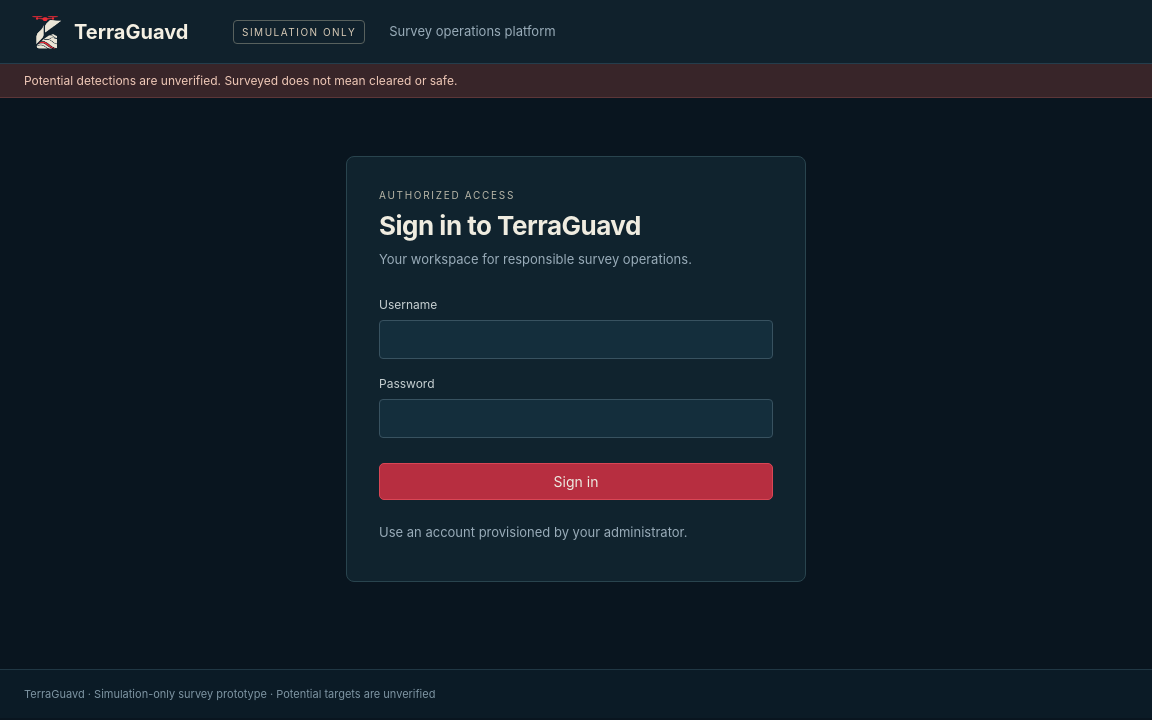
Test case: role workspaces › navigates field alerts and keeps stop requests disabled
The image size is (1152, 720).
Submit the form "Sign in", box [379, 297, 773, 516]
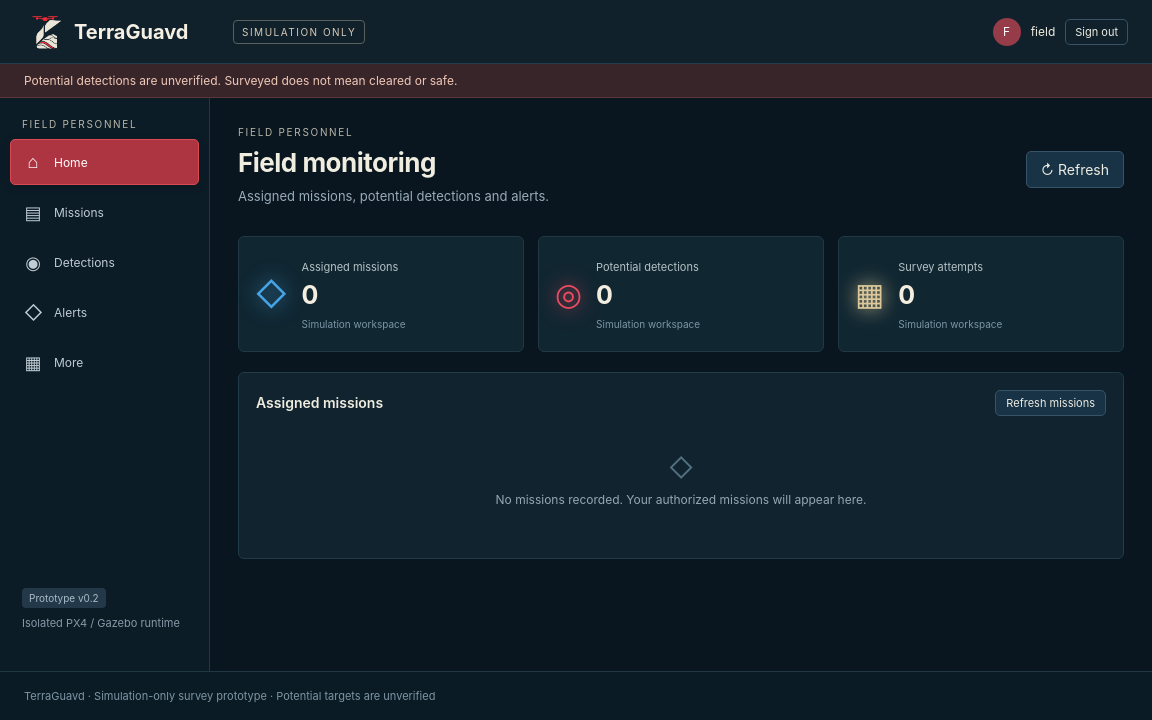
Click the button "◇ Alerts" at (104, 312), box [10, 290, 199, 335]
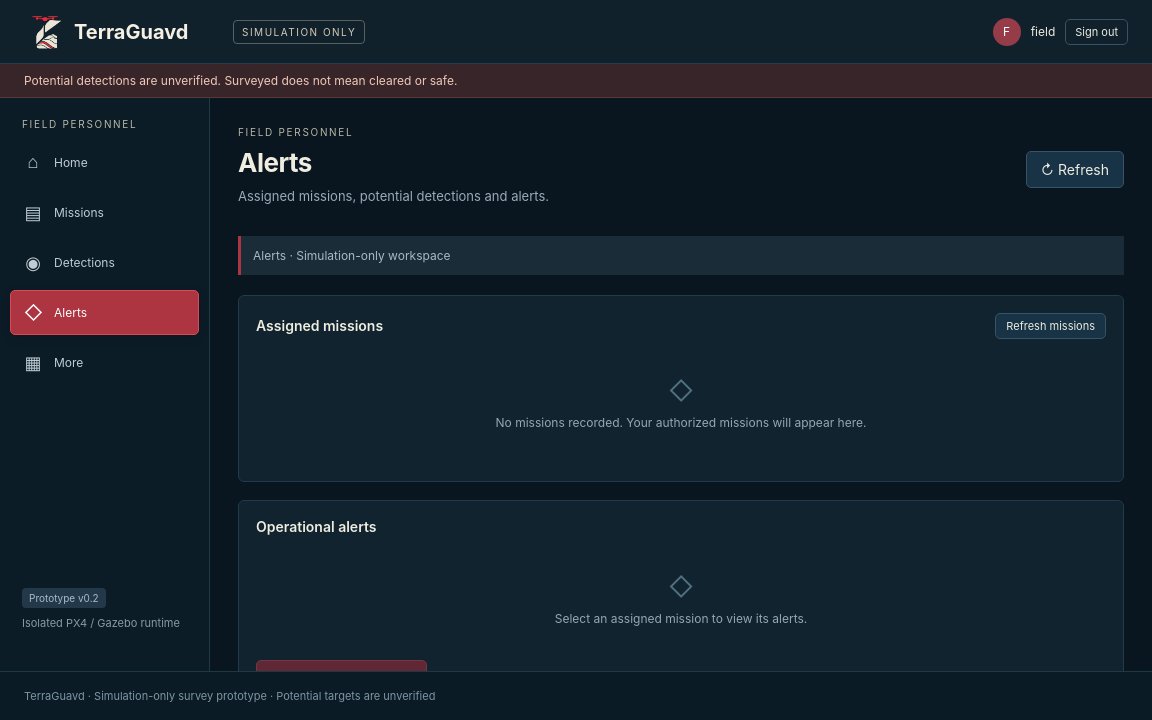
Click the button "Sign out" at (1097, 32), box [1065, 18, 1128, 44]
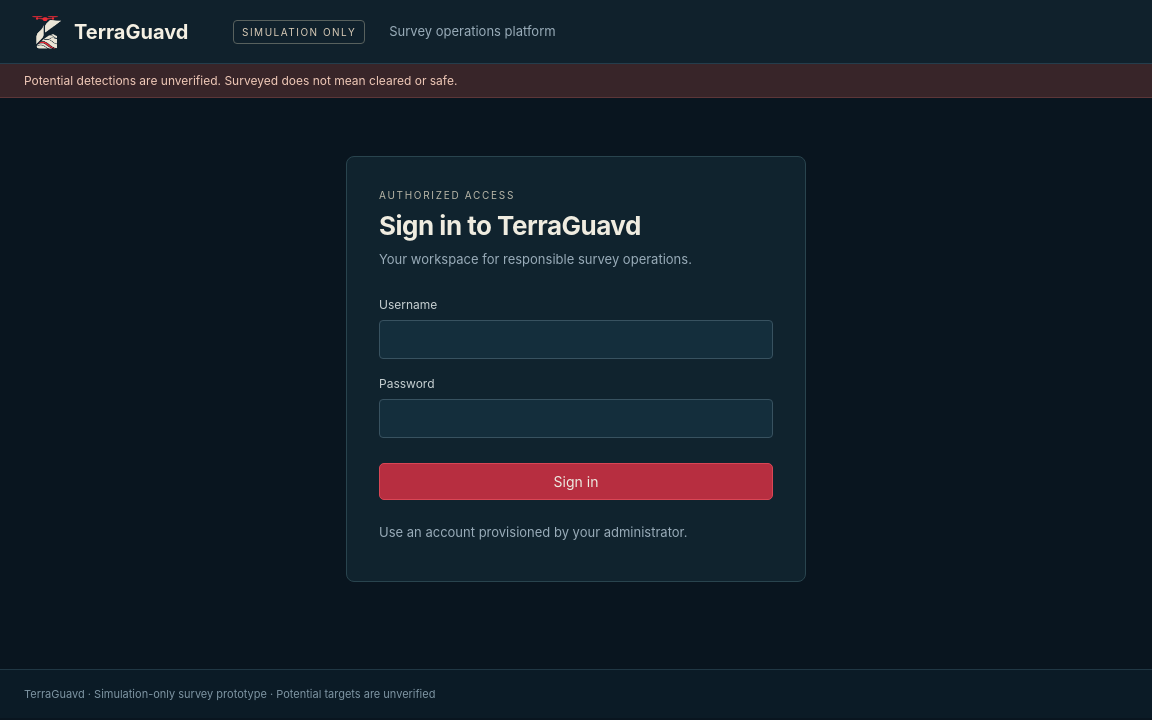
Now the heading "Sign in to TerraGuavd" is shown, box [379, 210, 641, 241]
